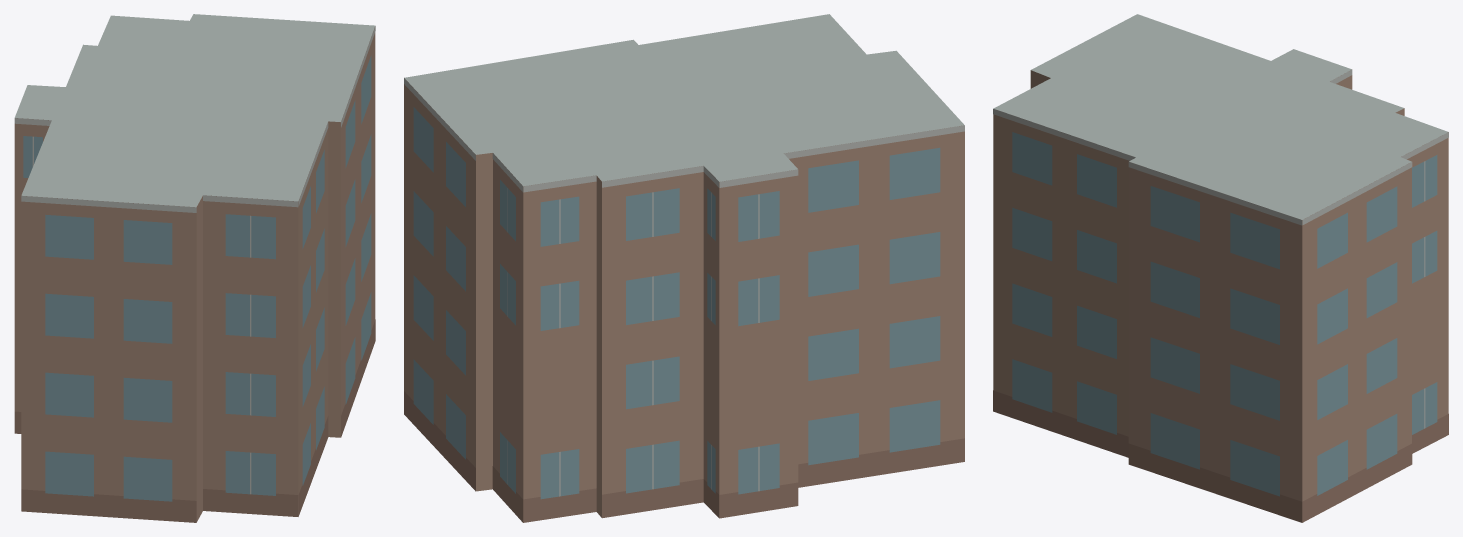
File: survey-upis-32708700.glb
3 views of the same model, side by side, from view 1: azimuth 30°, elevation 25°; view 2: azimuth 150°, elevation 25°; view 3: azimuth 270°, elevation 25° (orthographic). The views are drawn at different scales.
Parts seen in each view (by area): view 1: survey-upis-32708700.tmp; view 2: survey-upis-32708700.tmp; view 3: survey-upis-32708700.tmp.
Part boxes in pixels (x1=…): survey-upis-32708700.tmp: x1=14, y1=14, x2=375, y2=522; survey-upis-32708700.tmp: x1=404, y1=14, x2=964, y2=522; survey-upis-32708700.tmp: x1=993, y1=14, x2=1448, y2=522.
Bounding box in the file's own units: 19.26 × 13.2 × 18.
